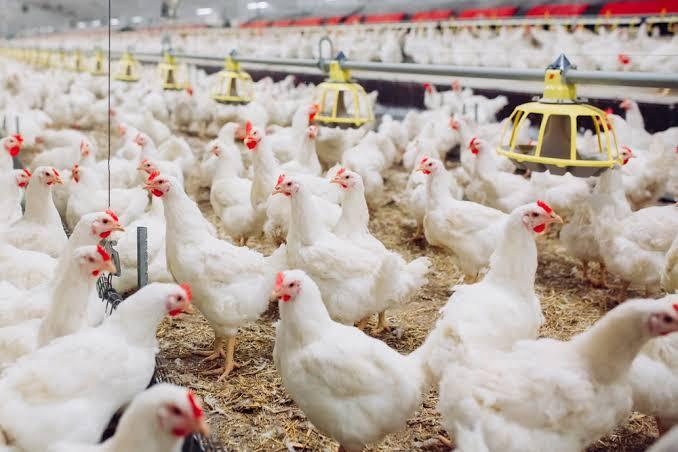chicken: (439, 300, 677, 452), (1, 282, 194, 450), (142, 172, 285, 377), (274, 270, 435, 450), (420, 201, 562, 386), (270, 175, 428, 323), (331, 168, 430, 330), (1, 247, 116, 359), (1, 210, 126, 302), (419, 157, 519, 265), (588, 203, 678, 290), (90, 384, 204, 452), (570, 146, 638, 260), (1, 167, 64, 247), (210, 143, 260, 241), (69, 162, 149, 218), (243, 122, 288, 220), (282, 125, 320, 173), (0, 170, 32, 217), (0, 132, 23, 170)
